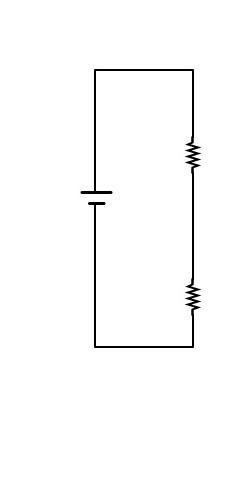resistor: (172, 121, 219, 180), (172, 264, 215, 322)
